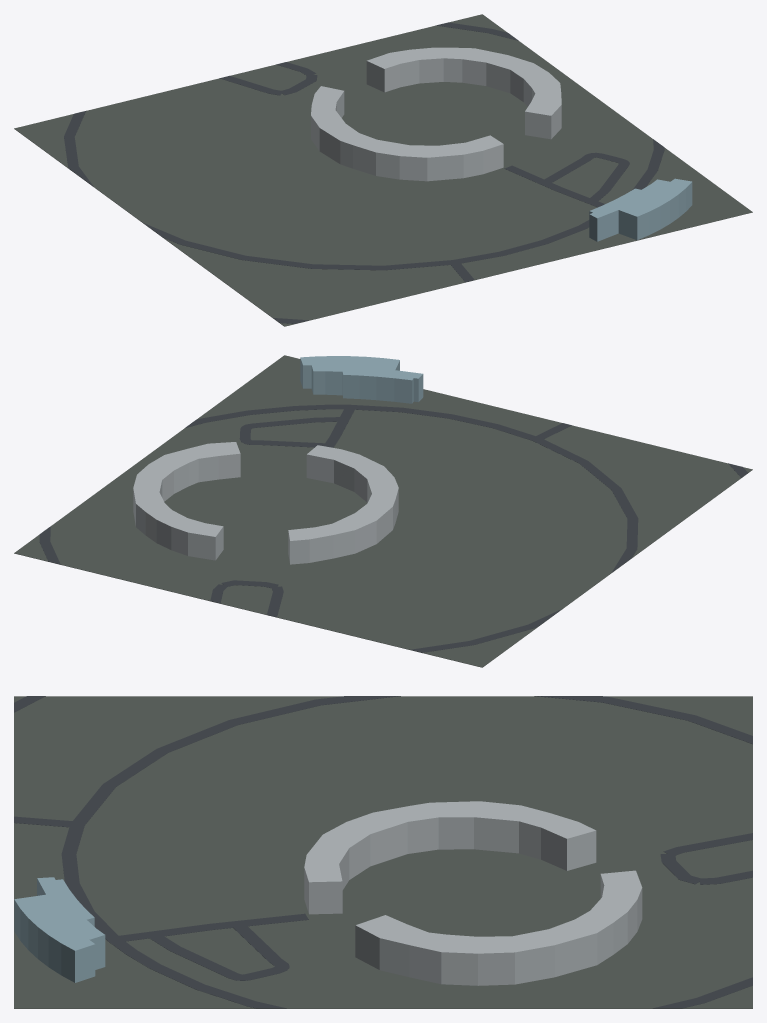
Rendered from tile_004_002.glb.
The picture shows the model from 3 angles, top to bottom: view 1: azimuth 30°, elevation 25°; view 2: azimuth 150°, elevation 25°; view 3: azimuth 270°, elevation 25°; orthographic projection. The views are drawn at different scales.
Parts seen in each view (by area): view 1: tile_004_002_ground, tile_004_002_buildings_neutral, tile_004_002_roads, tile_004_002_buildings_office; view 2: tile_004_002_ground, tile_004_002_buildings_neutral, tile_004_002_roads, tile_004_002_buildings_office; view 3: tile_004_002_ground, tile_004_002_buildings_neutral, tile_004_002_roads, tile_004_002_buildings_office.
Part boxes in pixels (x1,y1,x2,y2): tile_004_002_ground: (14, 14, 752, 326); tile_004_002_buildings_neutral: (311, 47, 561, 181); tile_004_002_roads: (64, 22, 664, 323); tile_004_002_buildings_office: (589, 178, 692, 241); tile_004_002_ground: (14, 355, 752, 667); tile_004_002_buildings_neutral: (133, 442, 398, 564); tile_004_002_roads: (39, 404, 747, 652); tile_004_002_buildings_office: (300, 356, 423, 403); tile_004_002_ground: (14, 696, 752, 1008); tile_004_002_buildings_neutral: (304, 801, 642, 985); tile_004_002_roads: (14, 696, 752, 1008); tile_004_002_buildings_office: (14, 877, 105, 982).
Bounding box in the file's own units: 250 × 12.16 × 250.
